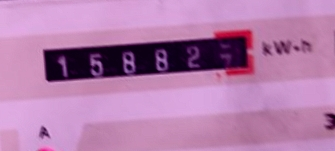1: (56, 53, 71, 79)
2: (185, 43, 202, 68)
5: (87, 50, 105, 77)
7: (219, 50, 234, 69)
8: (120, 49, 138, 76), (153, 46, 170, 72)
screen: (28, 21, 265, 97)
